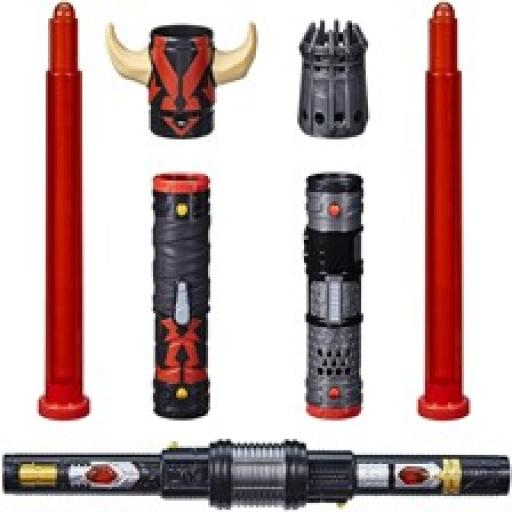lightsaber: (4, 440, 511, 506), (295, 19, 370, 422)
